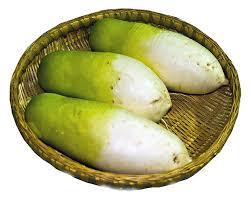radish: (9, 29, 76, 55), (32, 5, 90, 30), (14, 15, 68, 38)
